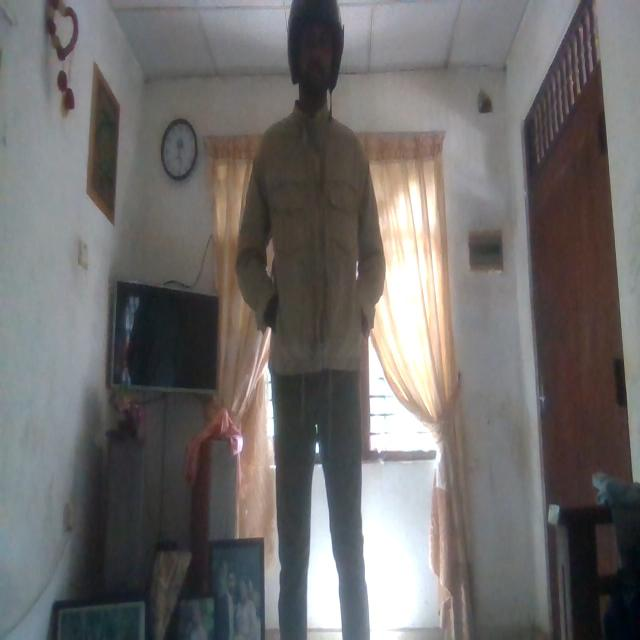Helmet_Wearer: (277, 0, 344, 108)
Jacket_Wearer: (238, 107, 386, 377)
Person: (237, 8, 389, 640)
